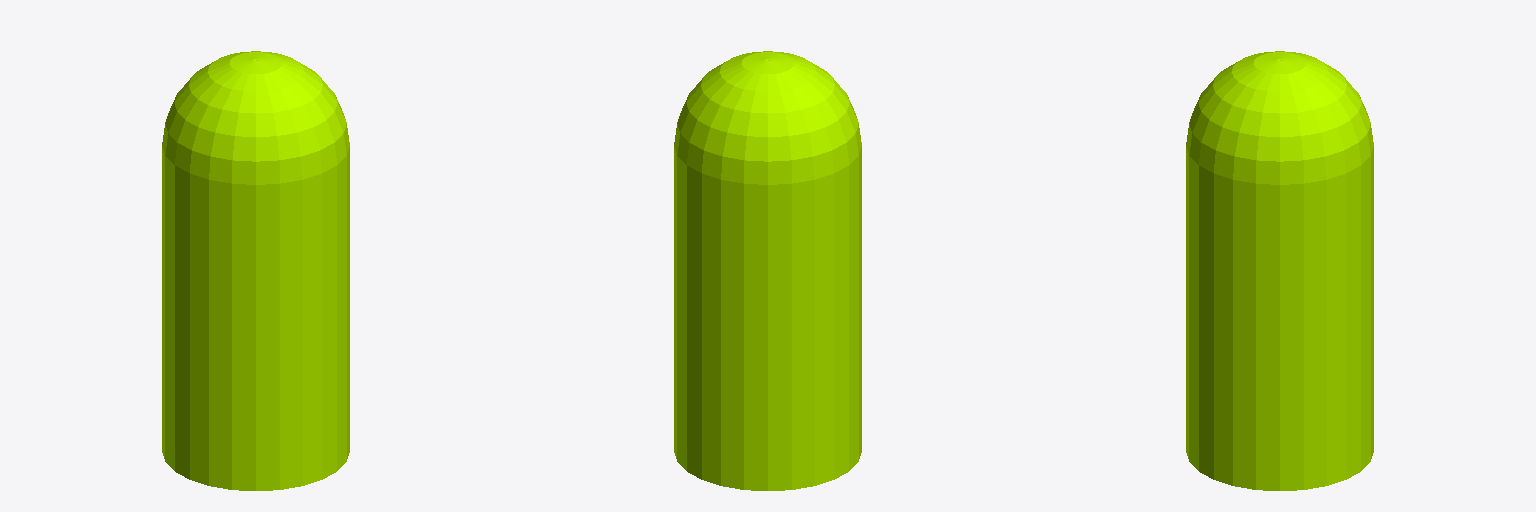
The model's file is bullet.obj.
3 renders of one model, left to right at view 1: azimuth 30°, elevation 25°; view 2: azimuth 150°, elevation 25°; view 3: azimuth 270°, elevation 25°, orthographic.
Parts seen in each view (by area): view 1: mergedBlocks; view 2: mergedBlocks; view 3: mergedBlocks.
Boxes of the visible parts, x1,y1,x2,y2 form: mergedBlocks: [162, 51, 349, 490]; mergedBlocks: [674, 51, 861, 490]; mergedBlocks: [1186, 51, 1373, 490].
Bounding box in the file's own units: 1 × 2.3 × 1.